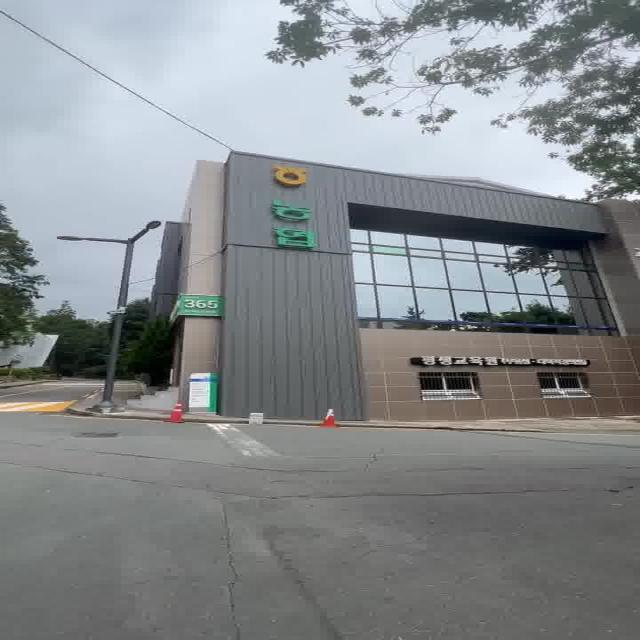building: (160, 167, 640, 418)
